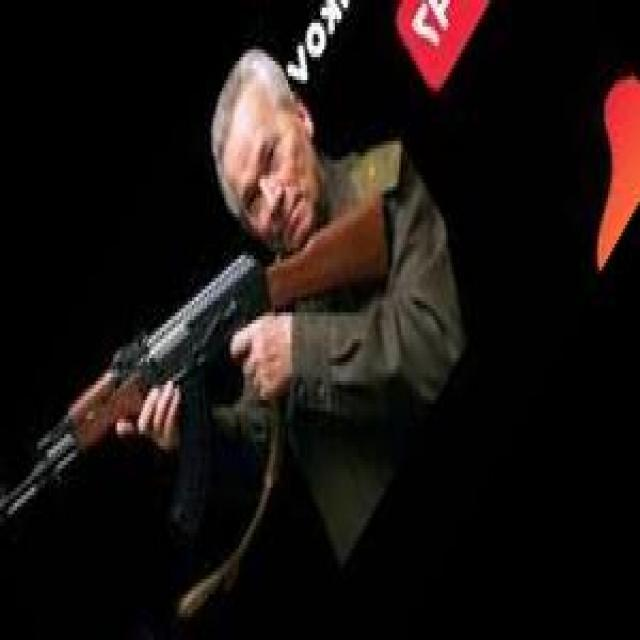weapon: (0, 188, 393, 523)
